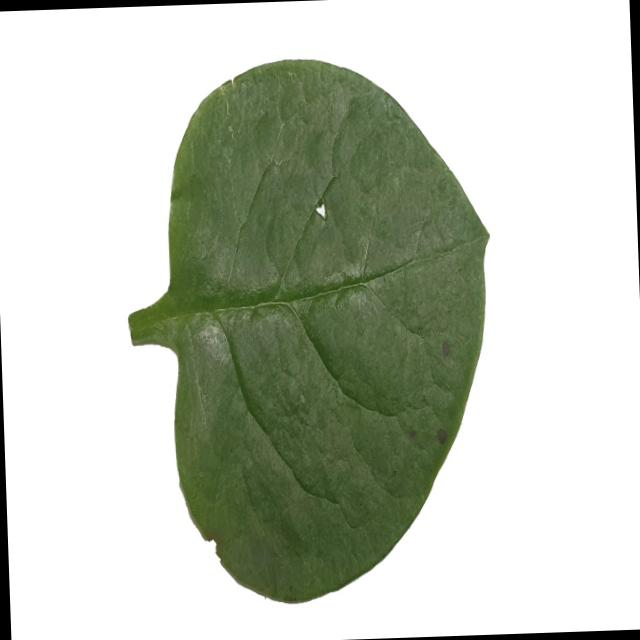Medicinal-Basale: (120, 49, 502, 610)
